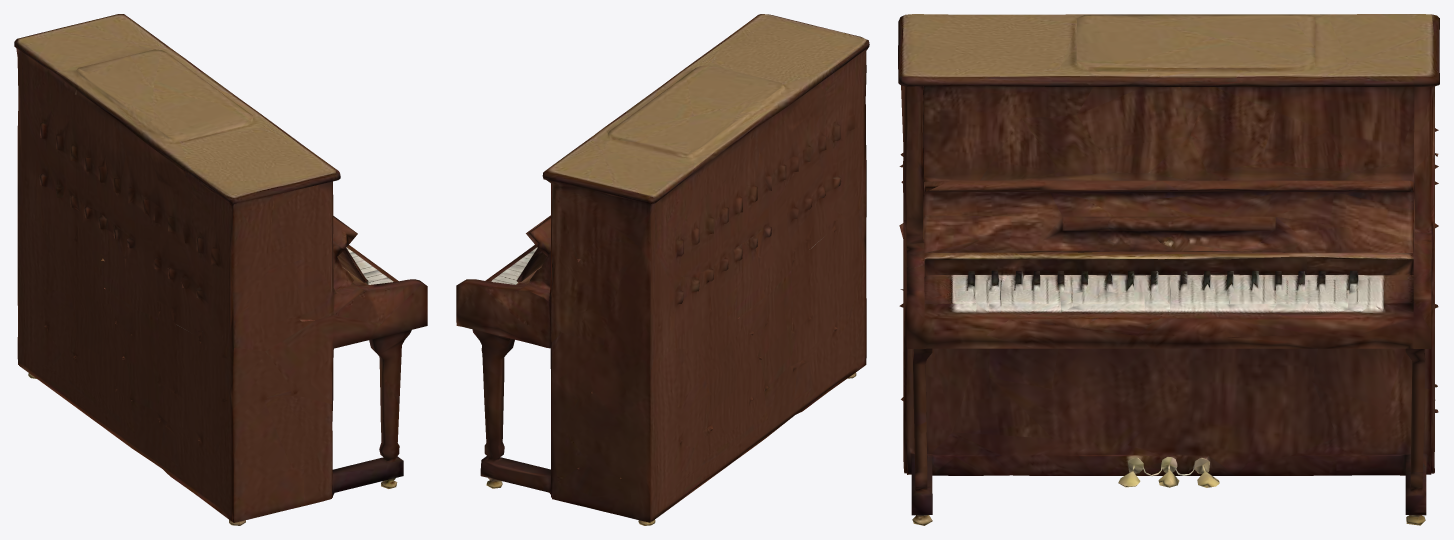
The model's file is prop_piano-B_r6NSkr.glb.
The picture shows the model from 3 angles, left to right: view 1: azimuth 30°, elevation 25°; view 2: azimuth 150°, elevation 25°; view 3: azimuth 270°, elevation 25°; orthographic projection. The views are drawn at different scales.
Parts seen in each view (by area): view 1: tripo_node_12934f0e-ece0-4a48-be36-802acbfe6d97; view 2: tripo_node_12934f0e-ece0-4a48-be36-802acbfe6d97; view 3: tripo_node_12934f0e-ece0-4a48-be36-802acbfe6d97.
Part boxes in pixels (x1=…): tripo_node_12934f0e-ece0-4a48-be36-802acbfe6d97: x1=14, y1=14, x2=427, y2=525; tripo_node_12934f0e-ece0-4a48-be36-802acbfe6d97: x1=456, y1=14, x2=869, y2=525; tripo_node_12934f0e-ece0-4a48-be36-802acbfe6d97: x1=898, y1=14, x2=1439, y2=525.
Size of the model in its own units: 0.5256 by 0.8432 by 0.9997.
1 material, 1 textured.
